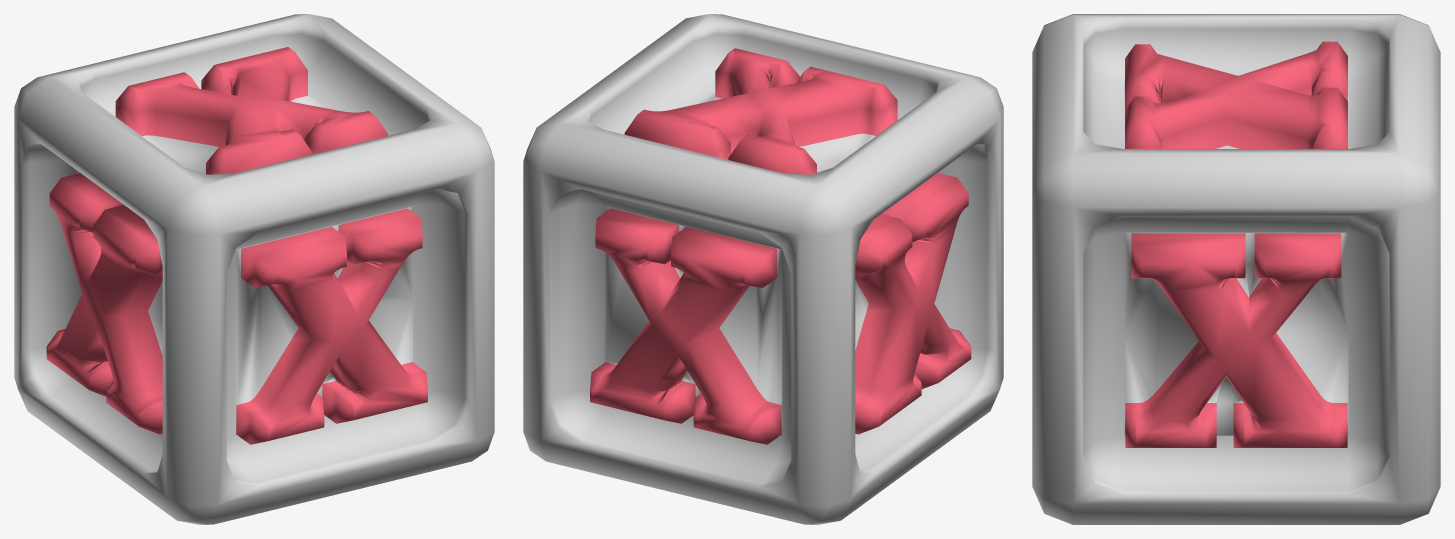
The picture shows the model from 3 angles, left to right: view 1: azimuth 30°, elevation 25°; view 2: azimuth 150°, elevation 25°; view 3: azimuth 270°, elevation 25°; orthographic projection. The views are drawn at different scales.
Parts seen in each view (by area): view 1: obj_0; view 2: obj_0; view 3: obj_0.
Boxes of the visible parts, left/top/right/bottom form: obj_0: left=14, top=14, right=494, bottom=524; obj_0: left=523, top=14, right=1003, bottom=524; obj_0: left=1032, top=14, right=1440, bottom=524.
Size of the model in its own units: 100 by 100 by 100.
